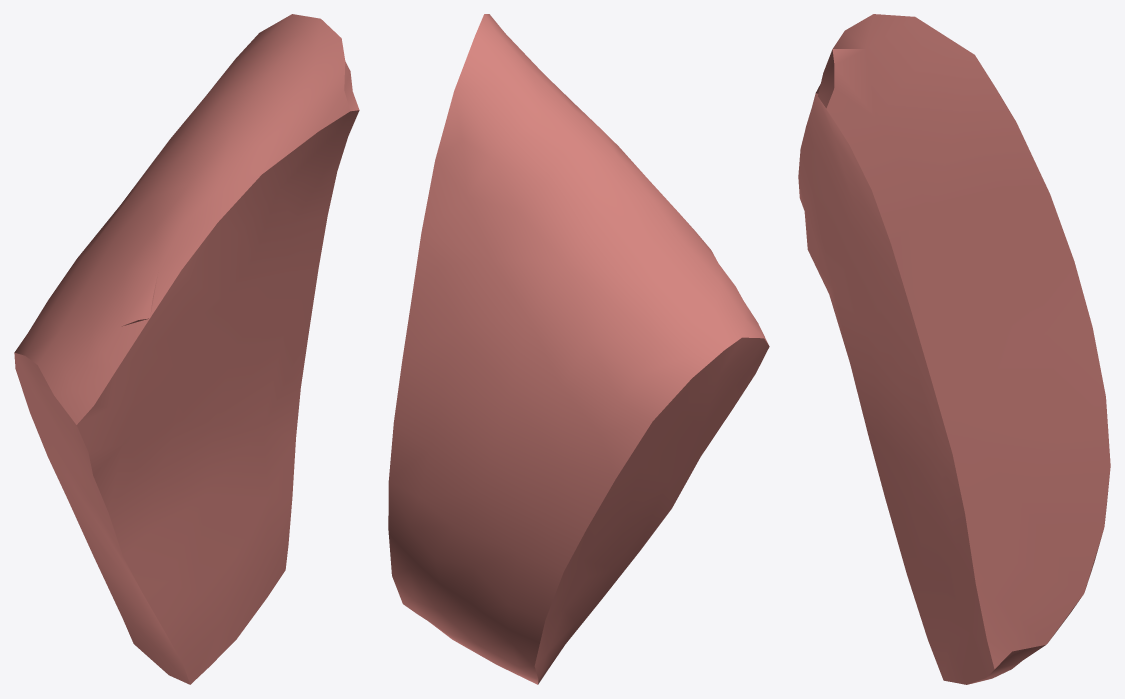
File: fma301571_mm3997m.glb
The picture shows the model from 3 angles, left to right: view 1: azimuth 30°, elevation 25°; view 2: azimuth 150°, elevation 25°; view 3: azimuth 270°, elevation 25°; orthographic projection. The views are drawn at different scales.
Visible parts, largest first — view 1: FMA301571_MM3997M; view 2: FMA301571_MM3997M; view 3: FMA301571_MM3997M.
Part boxes in pixels (x1,y1,x2,y2): FMA301571_MM3997M: (14,14,359,684); FMA301571_MM3997M: (388,14,769,684); FMA301571_MM3997M: (798,14,1110,684).
Size of the model in its own units: 0.012 by 0.025 by 0.00986.
